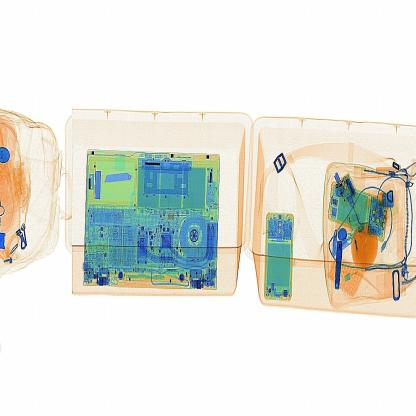pliers: (99, 161, 142, 194)
